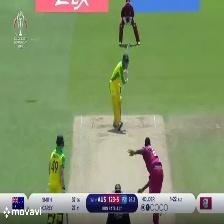batsman: (109, 43, 131, 134)
